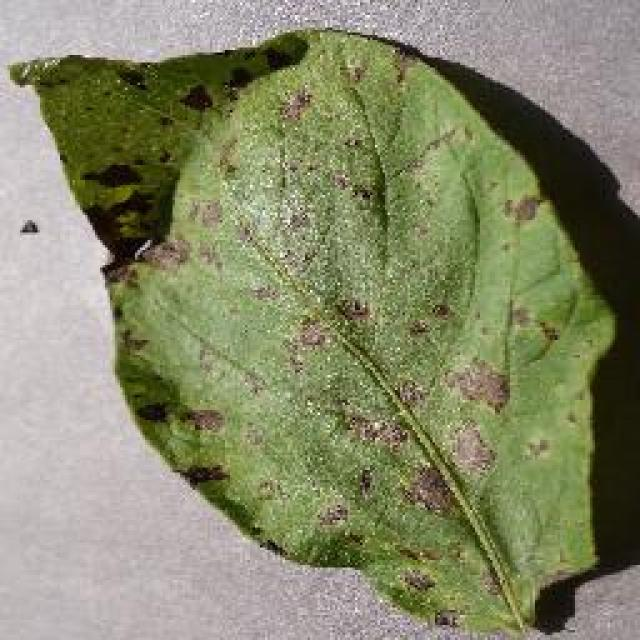early_blight: (5, 22, 623, 638)
